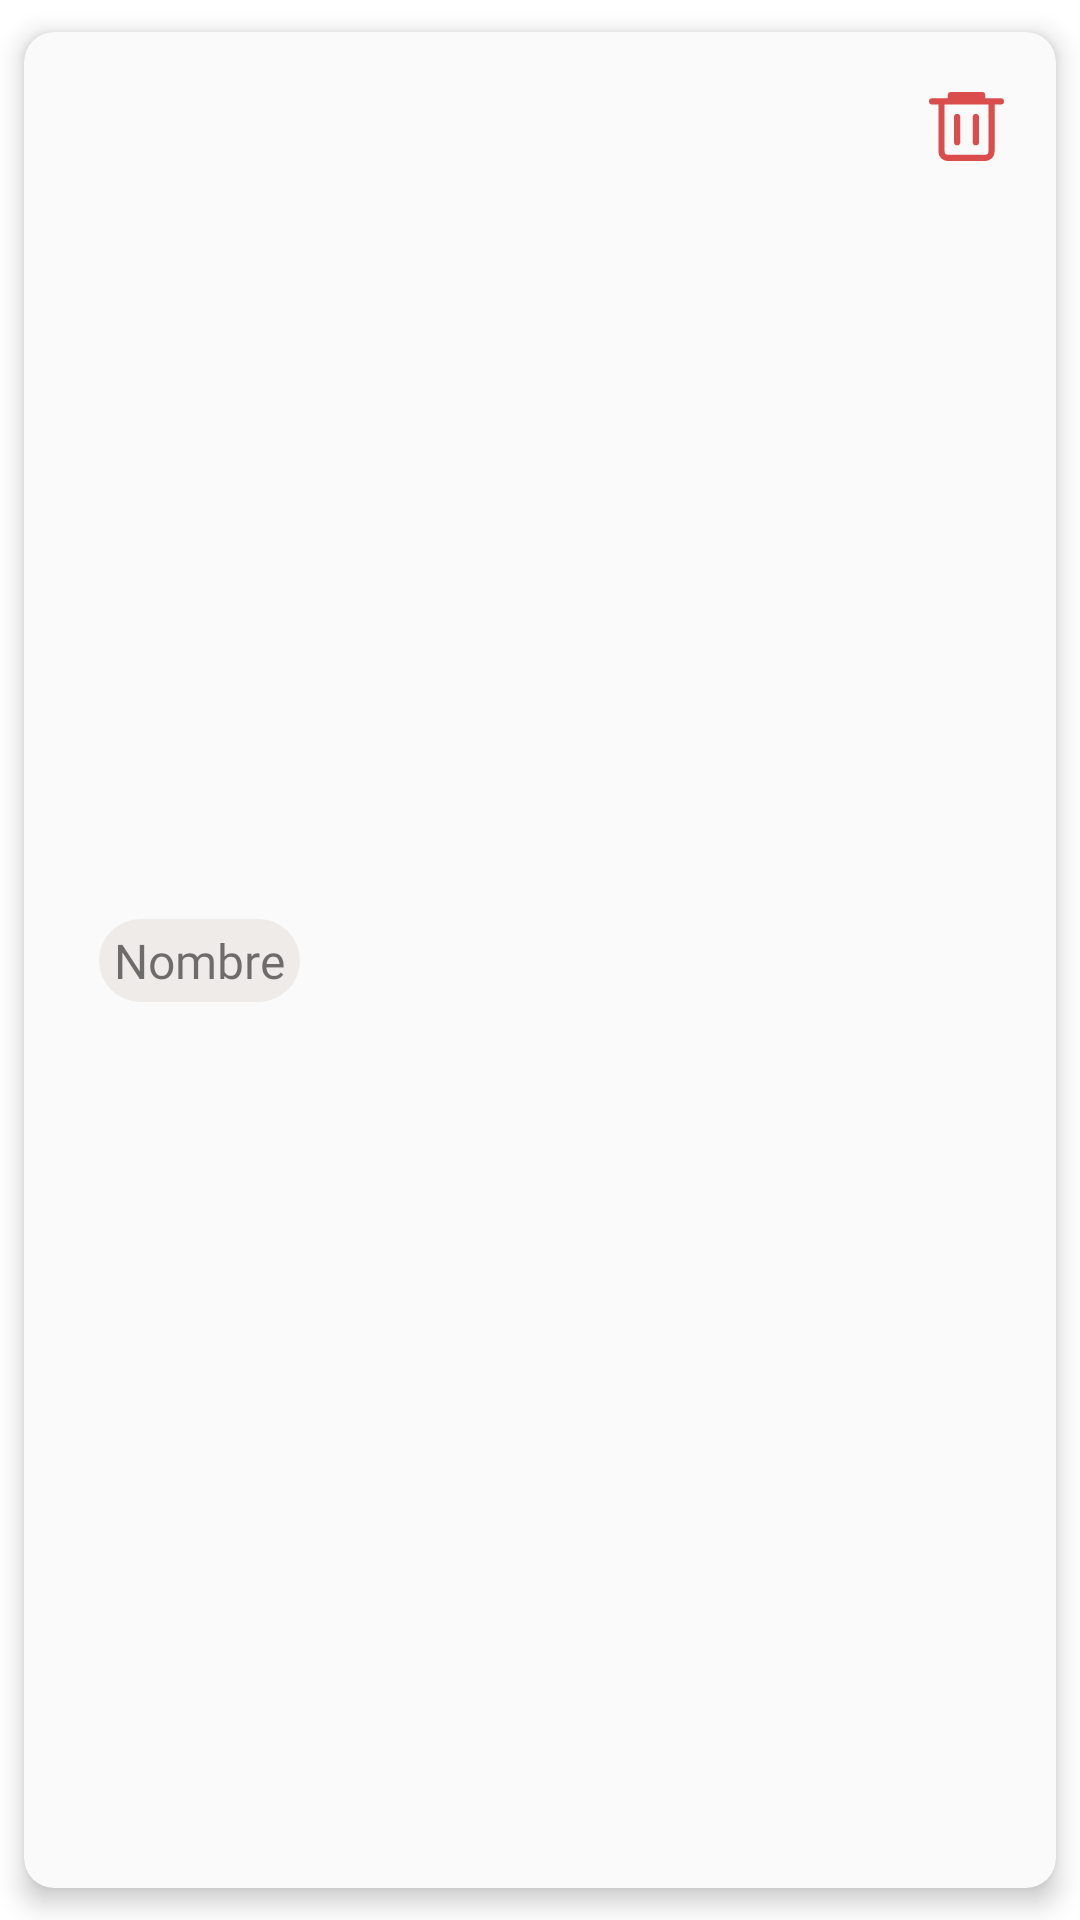

Icon click points for this 1080px×1920px phone screenshot, format (x,y):
delete: (966,126)
